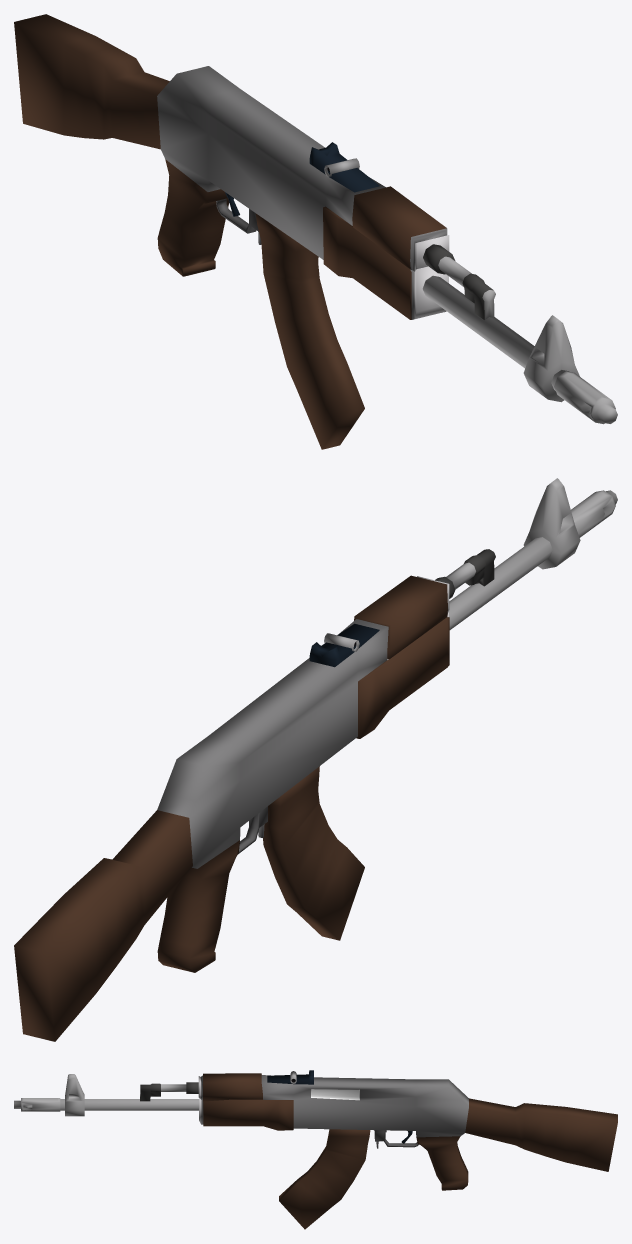
Rendered from low-poly_kalash_ak47.glb.
The picture shows the model from 3 angles, top to bottom: view 1: azimuth 30°, elevation 25°; view 2: azimuth 150°, elevation 25°; view 3: azimuth 270°, elevation 25°; orthographic projection. The views are drawn at different scales.
Visible parts, largest first — view 1: Object_2; view 2: Object_2; view 3: Object_2.
Part boxes in pixels (bbox=[...]): Object_2: bbox=[14, 14, 617, 449]; Object_2: bbox=[14, 478, 617, 1041]; Object_2: bbox=[14, 1070, 617, 1229].
Bounding box in the file's own units: 0.0827 × 0.6154 × 2.18.
Materials: 1 (1 with a texture image).
